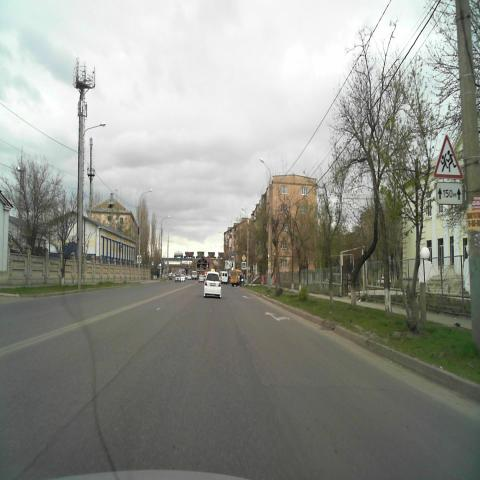1_23: (433, 134, 463, 178)
2_1: (242, 254, 246, 261)
5_19_1: (137, 255, 142, 262)
8_2_1: (436, 180, 463, 204)
